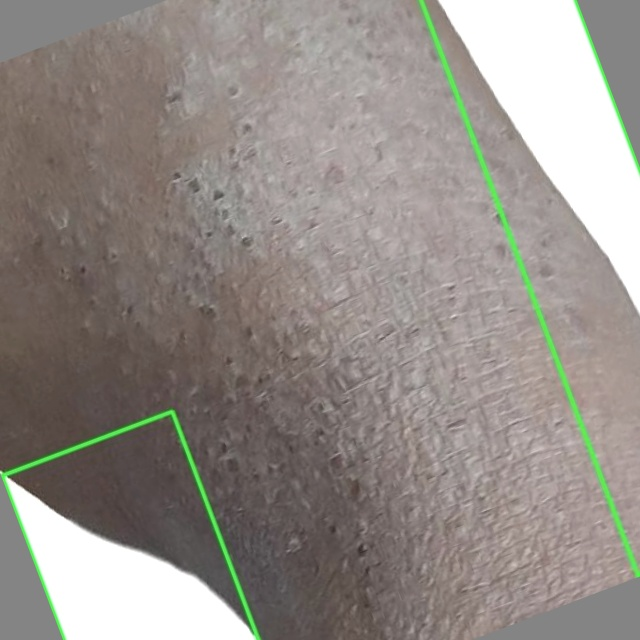Contact Dermatitis: (2, 412, 258, 639)
